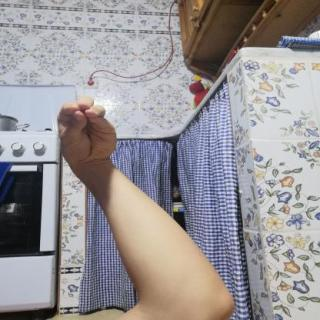HA: (44, 88, 141, 175)
